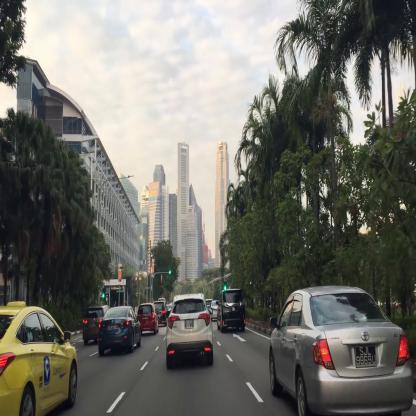green_traffic_light: (102, 288, 106, 300), (169, 270, 175, 274)
